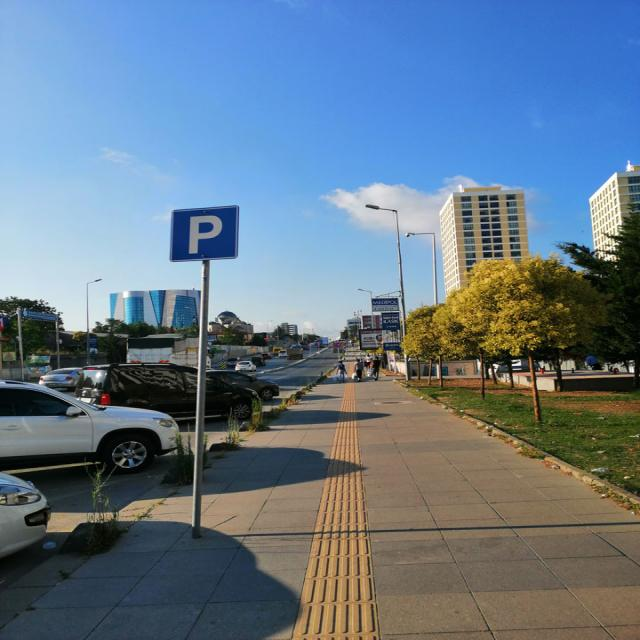park: (169, 205, 239, 262)
